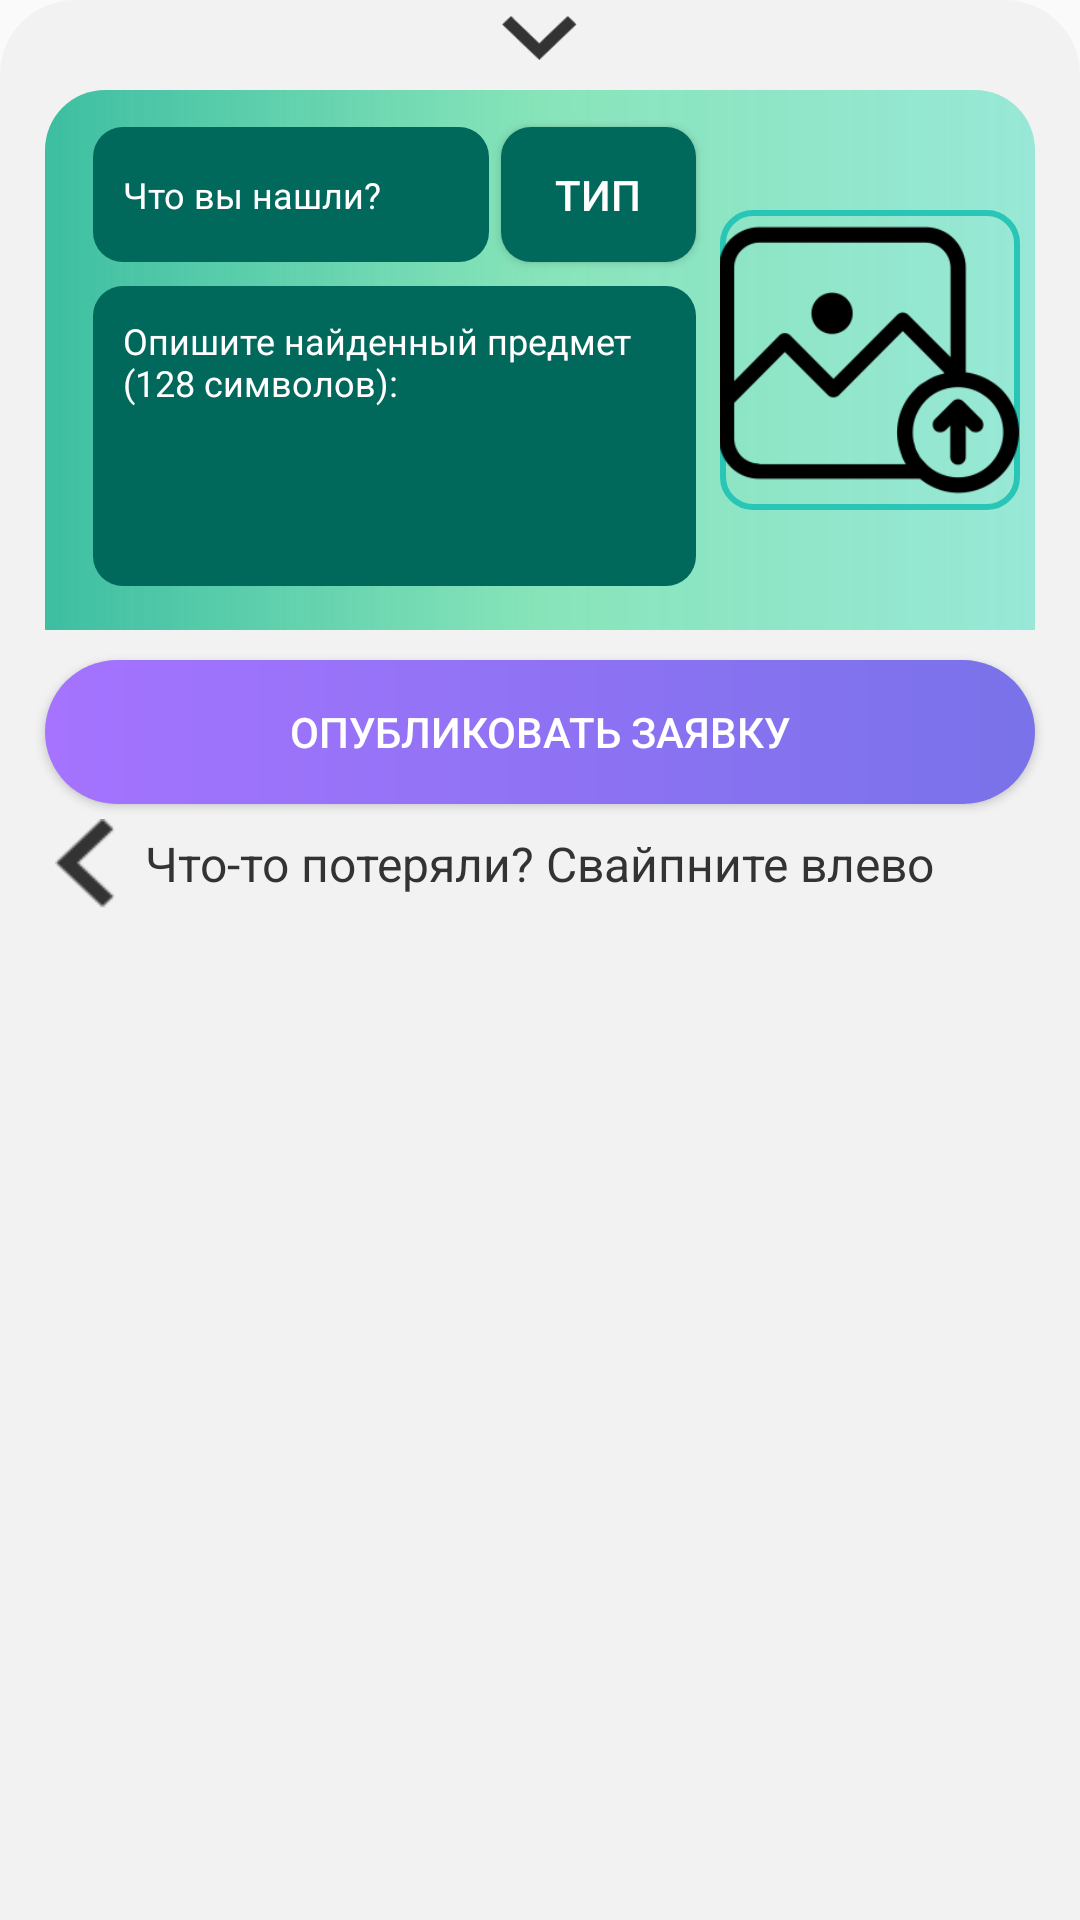

Named icons in this screenshot (1080px×1920px) and their centers, point (x, y):
down arrow: point (539, 38)
left arrow: point (84, 863)
